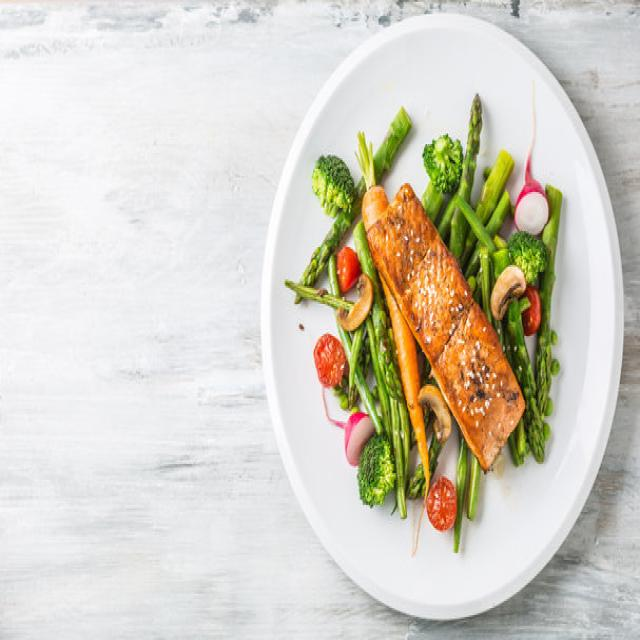Fish: (366, 185, 524, 469)
Green veg: (421, 94, 561, 464), (334, 220, 426, 517), (286, 108, 411, 309), (454, 432, 480, 549)
Non green veg: (388, 295, 455, 528), (336, 247, 371, 327), (326, 411, 374, 466), (314, 332, 348, 389), (362, 185, 388, 224), (522, 286, 539, 334)
